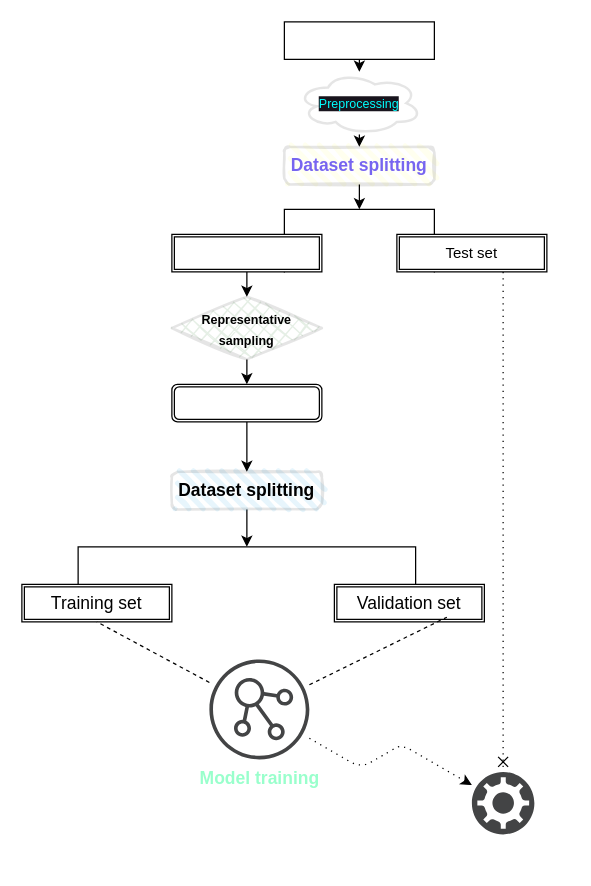
Image size: 591x886. Some labels were removed from this diagram. The centre of each missing label's shape, as x and y in pixels:
"All images" belongs at (358,40).
"Dataset subset" belongs at (246,402).
"Model Evaluation" belongs at (502,802).
"Train set" belongs at (246,252).
